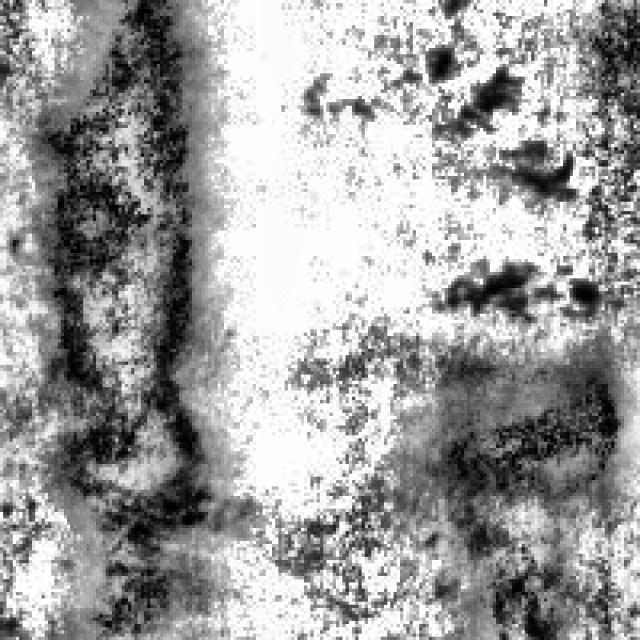Scratches: (32, 0, 211, 630), (419, 342, 624, 506), (460, 493, 582, 637)
